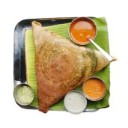dosa: (31, 19, 113, 110)
